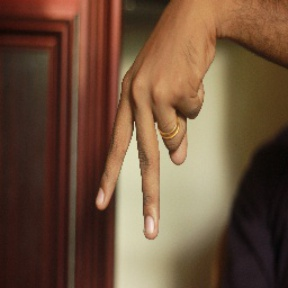Y: (90, 51, 202, 241)
